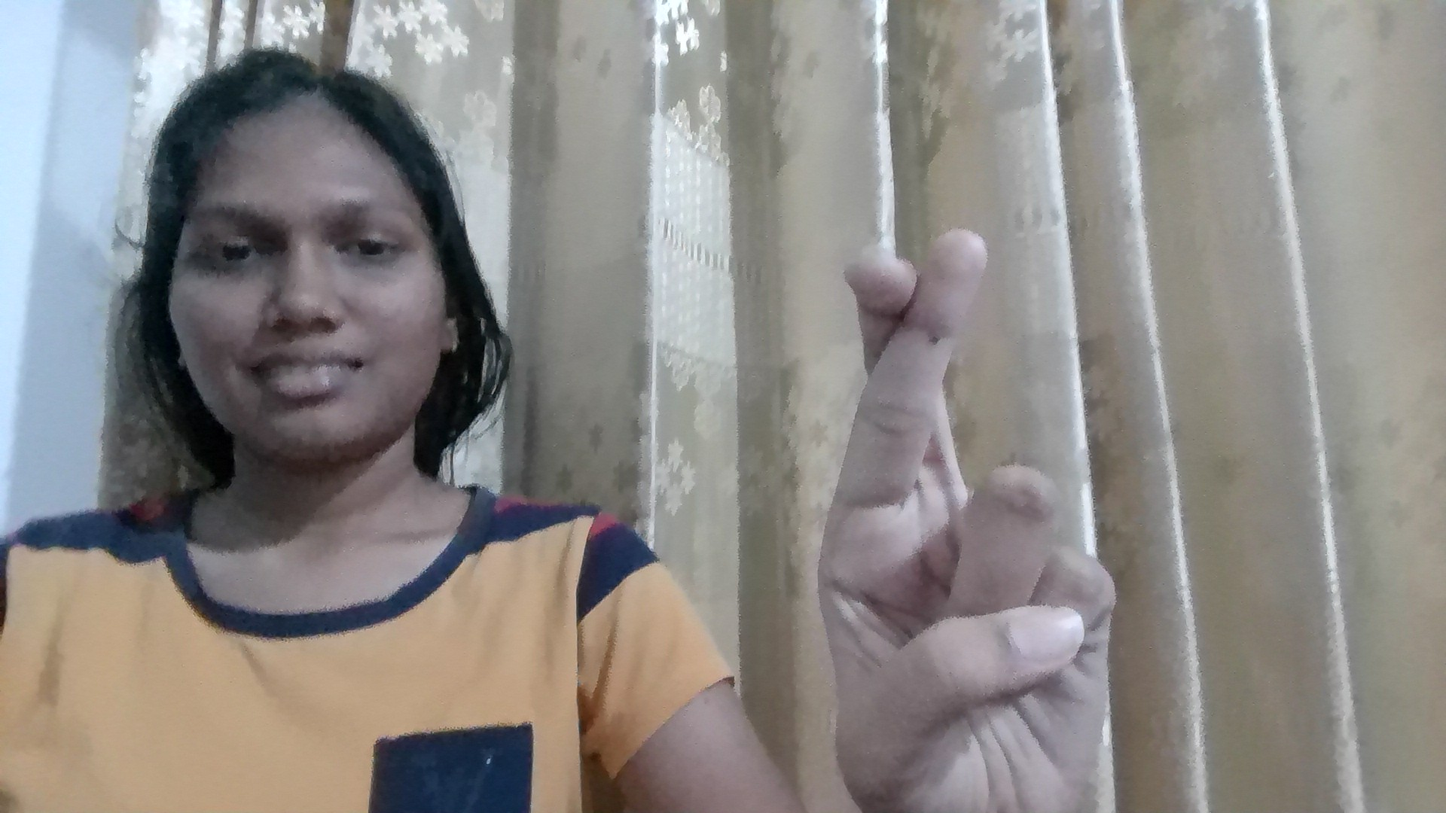Good_Luck: (793, 169, 1232, 813)
